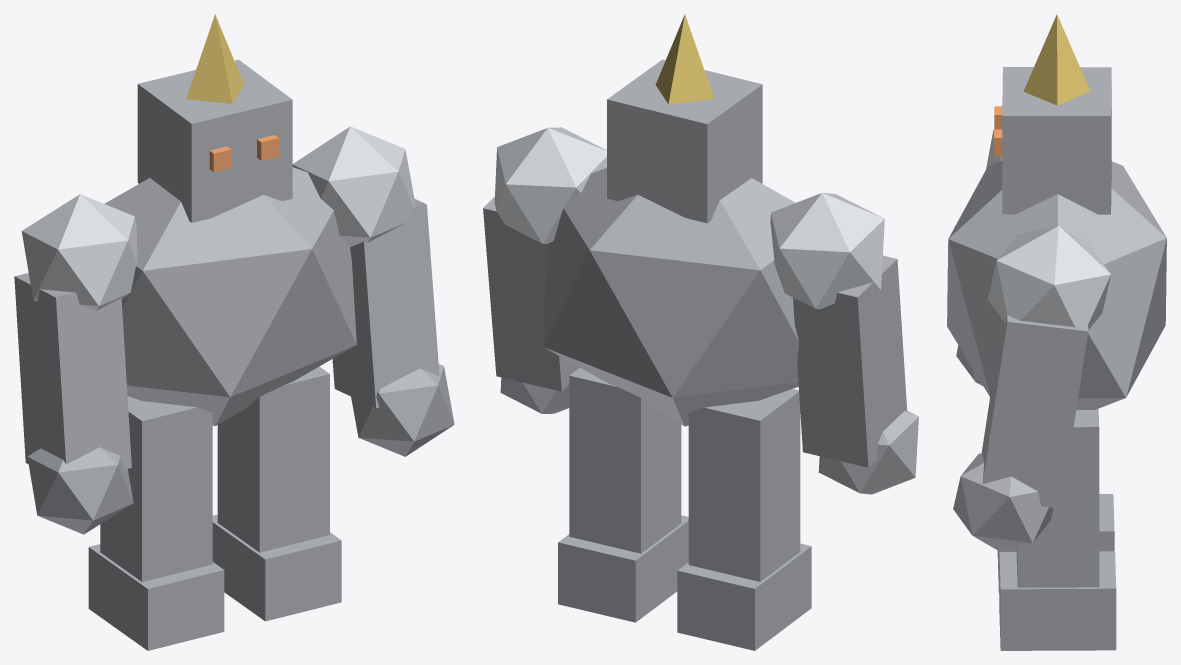
Rendered from npcpose_golem_idle_05.glb.
3 renders of one model, left to right at view 1: azimuth 30°, elevation 25°; view 2: azimuth 150°, elevation 25°; view 3: azimuth 270°, elevation 25°, orthographic.
Parts seen in each view (by area): view 1: npcpose; view 2: npcpose; view 3: npcpose.
Part boxes in pixels (x1,y1,x2,y2): npcpose: (14, 14, 454, 650); npcpose: (483, 14, 918, 650); npcpose: (947, 14, 1166, 650).
Bounding box in the file's own units: 1.38 × 1.91 × 0.6465.
